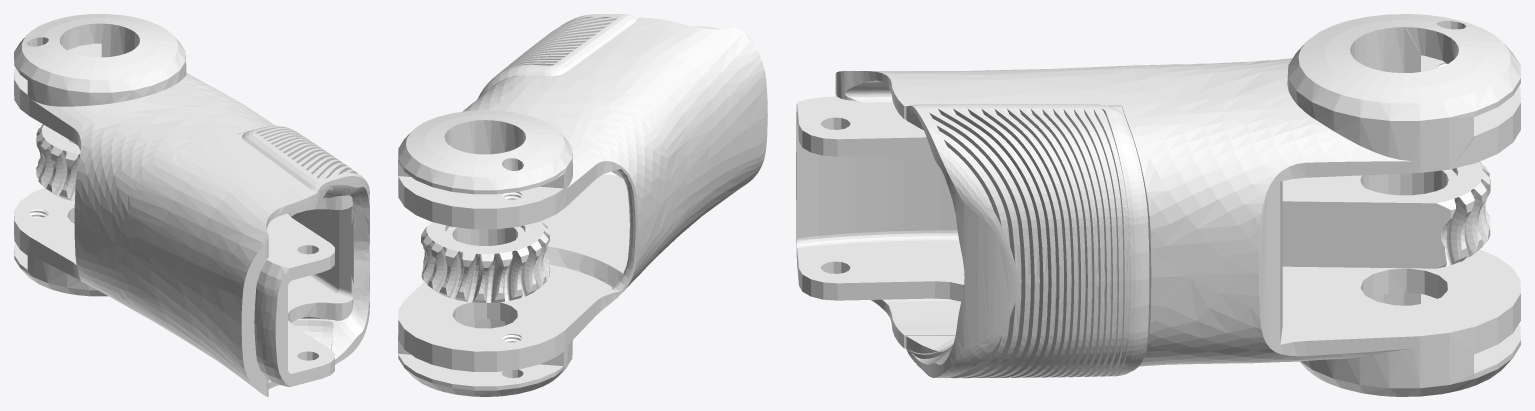
The model's file is rh_thumb_proximal_vis.obj.
The picture shows the model from 3 angles, left to right: view 1: azimuth 30°, elevation 25°; view 2: azimuth 150°, elevation 25°; view 3: azimuth 270°, elevation 25°; orthographic projection. The views are drawn at different scales.
Parts seen in each view (by area): view 1: rh_thumb_proximal; view 2: rh_thumb_proximal; view 3: rh_thumb_proximal.
Part boxes in pixels (left/top/right/bottom): rh_thumb_proximal: left=14, top=14, right=369, bottom=396; rh_thumb_proximal: left=398, top=14, right=767, bottom=396; rh_thumb_proximal: left=796, top=14, right=1520, bottom=396.
Size of the model in its own units: 0.0218 by 0.0233 by 0.0493.
1 material, 1 textured.
